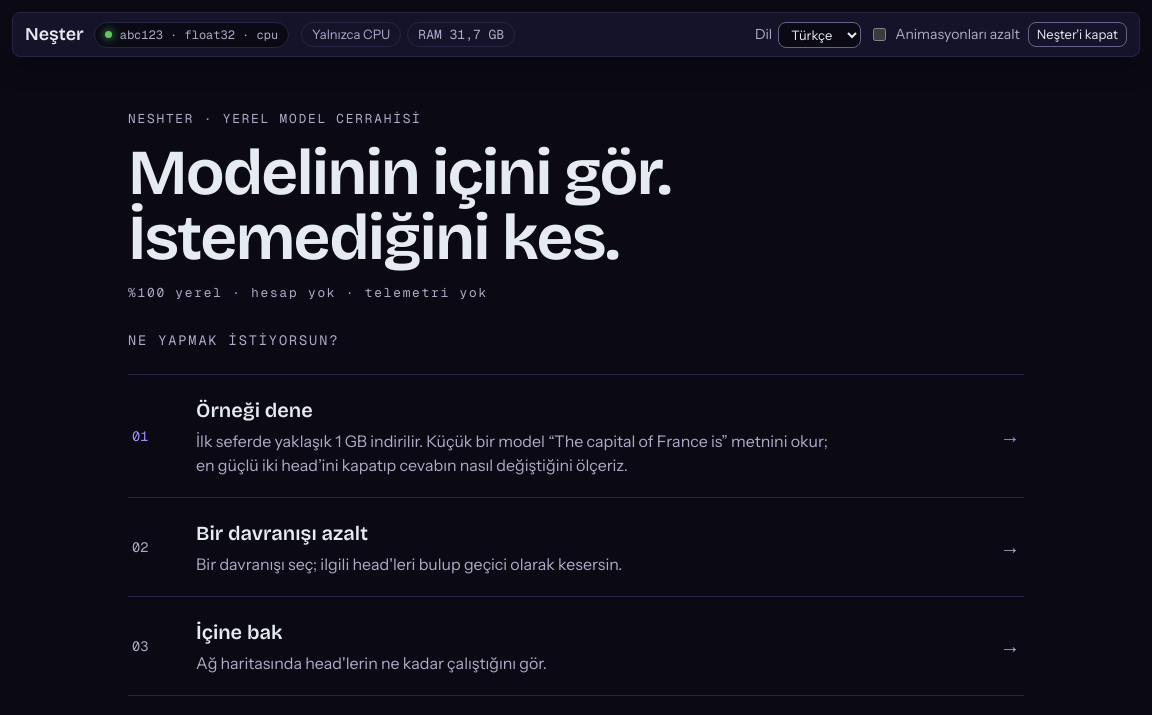
Test: the closed screen does not promise new cuts in the draft while an earlier draft holds autosave back
Expected: the heading "Ne yapmak istiyorsun?" is shown, [128, 331, 339, 349]
Click the button "Neşter'i kapat": (1077, 35) [1028, 22, 1127, 47]
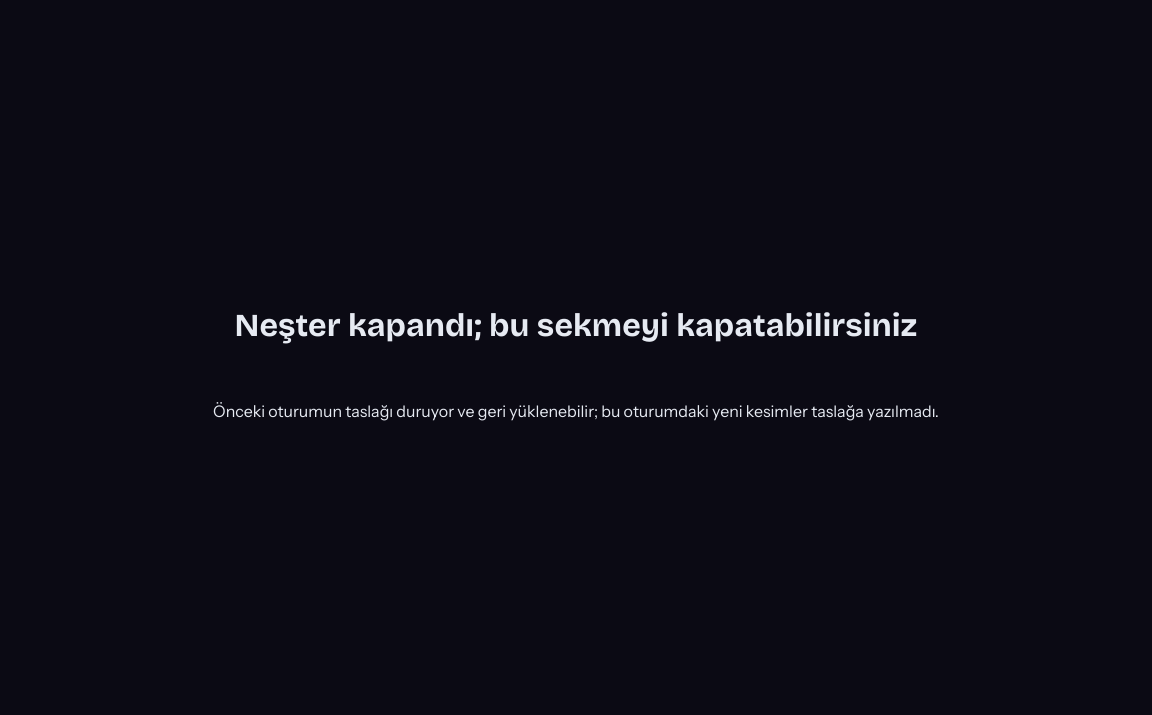
Expected: the heading "Neşter kapandı; bu sekmeyi kapatabilirsiniz" is shown, [213, 302, 939, 350]
Expected: the text "bu oturumdaki yeni kesimler taslağa yazılmadı" is shown, [213, 401, 939, 421]
